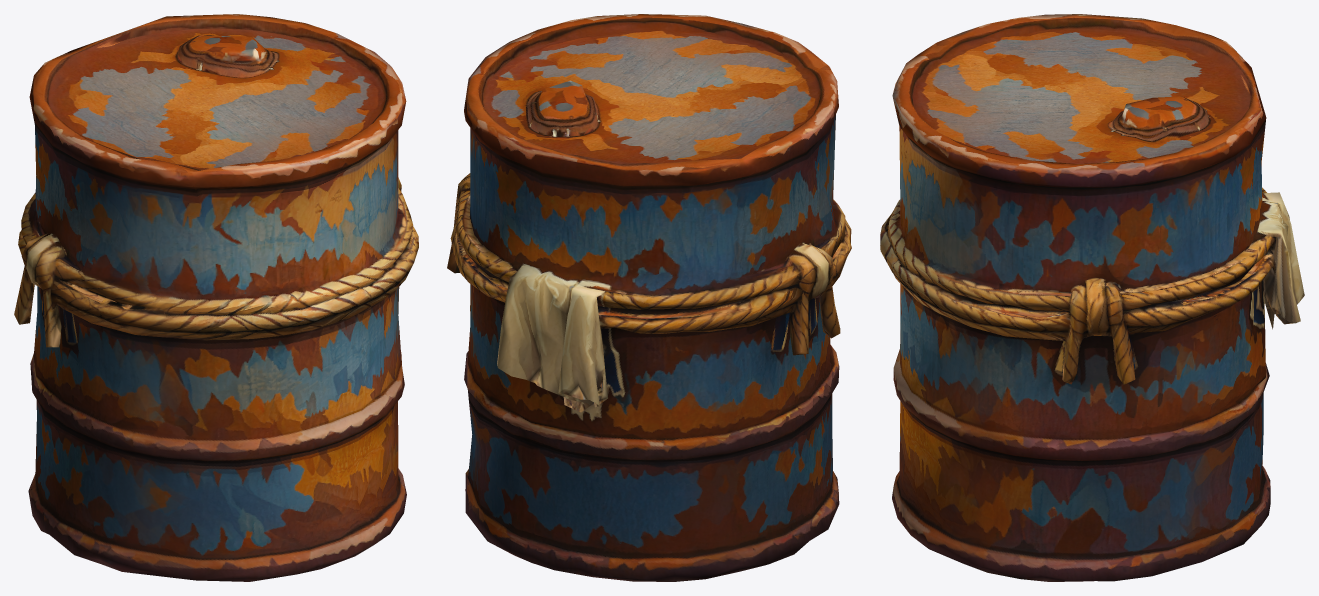
File: Loot_OilDrum_Closed.fbx
3 renders of one model, left to right at view 1: azimuth 30°, elevation 25°; view 2: azimuth 150°, elevation 25°; view 3: azimuth 270°, elevation 25°, orthographic.
Parts seen in each view (by area): view 1: texture_mapping; view 2: texture_mapping; view 3: texture_mapping.
Boxes of the visible parts, x1=… form: texture_mapping: x1=14, y1=14, x2=418, y2=581; texture_mapping: x1=447, y1=14, x2=851, y2=581; texture_mapping: x1=880, y1=14, x2=1304, y2=581.
Size of the model in its own units: 0.9089 by 0.9072 by 1.01.
Materials: 1 (1 with a texture image).
